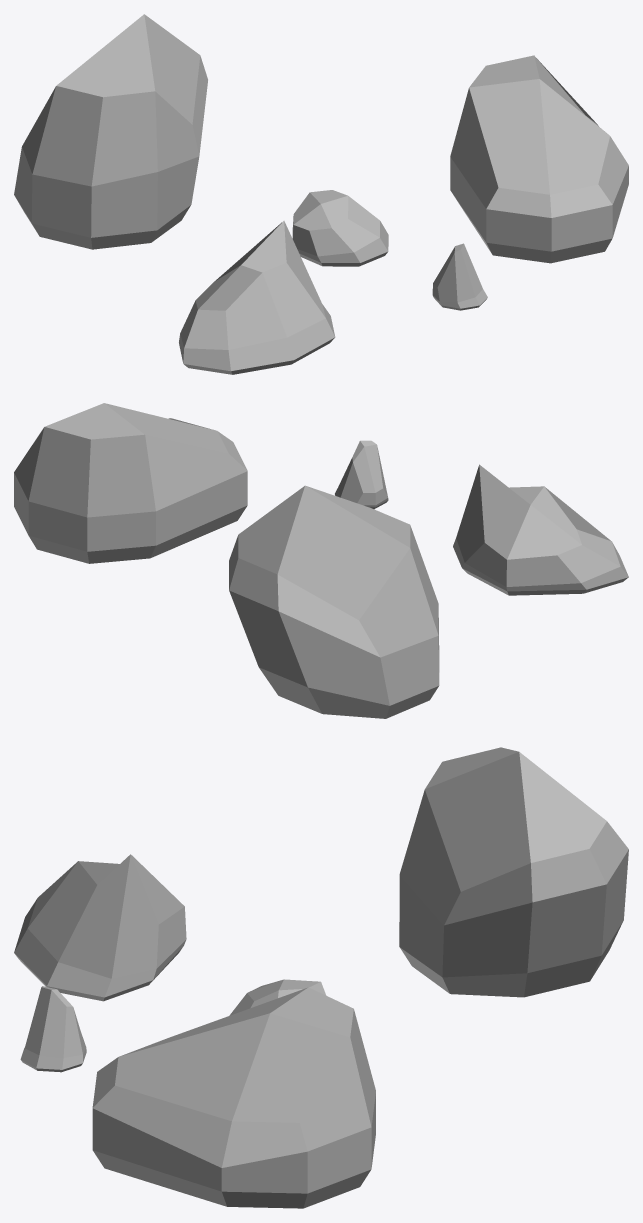
File: pebbles3.glb
3 renders of one model, top to bottom at view 1: azimuth 30°, elevation 25°; view 2: azimuth 150°, elevation 25°; view 3: azimuth 270°, elevation 25°, orthographic. The views are drawn at different scales.
Visible parts, largest first — view 1: Pebbles.003; view 2: Pebbles.003; view 3: Pebbles.003.
Part boxes in pixels (left/top/right/bottom): Pebbles.003: left=14, top=14, right=628, bottom=374; Pebbles.003: left=14, top=403, right=628, bottom=718; Pebbles.003: left=14, top=747, right=628, bottom=1208.
Bounding box in the file's own units: 0.9052 × 0.3264 × 0.7575.
1 material, 1 textured.
